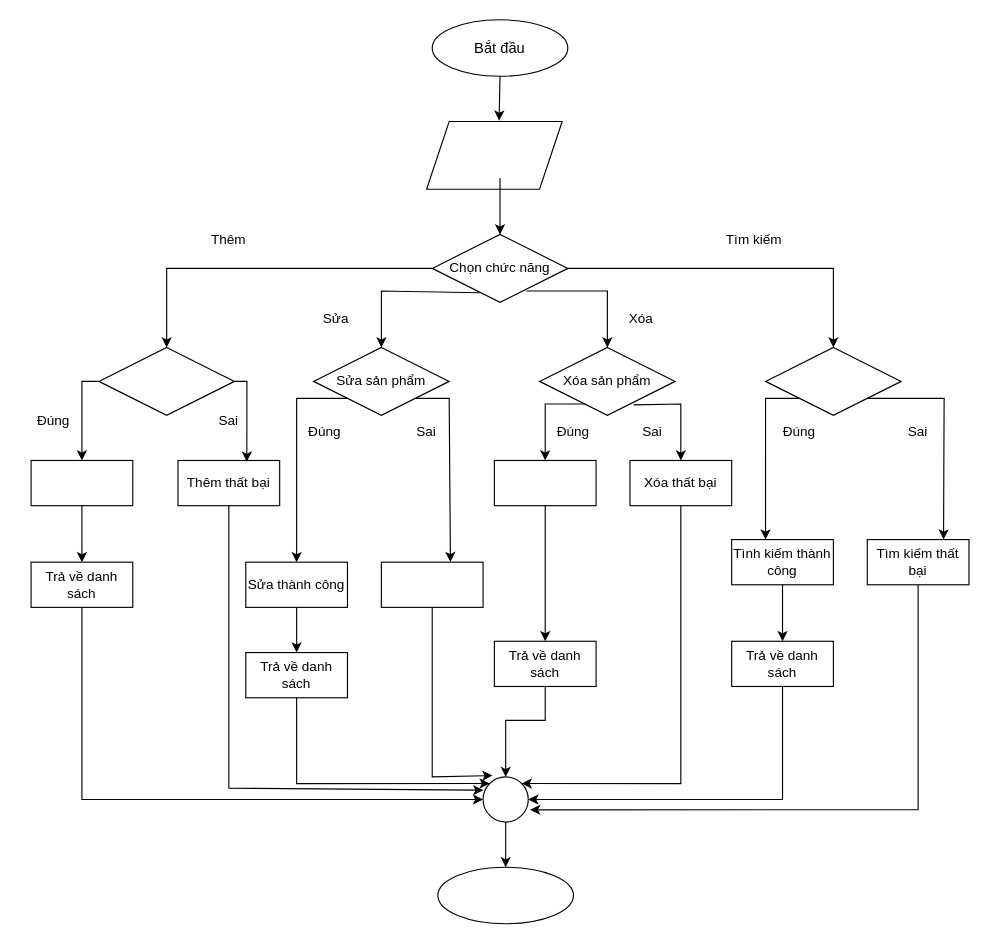
This 989x944 diagram has some shape labels left out. The box of each missing label's shape, as (x1, y1, x2, y2) in pixels:
Kết thúc: (437, 866, 573, 924)
Sửa thất bại: (380, 561, 483, 607)
Thêm sản phẩm: (98, 346, 234, 415)
Thêm thành công: (30, 459, 133, 506)
Thông tin sản phẩm: (425, 120, 562, 189)
Tìm kiếm sản phẩm: (764, 346, 901, 415)
Xóa thành công: (493, 459, 596, 506)
